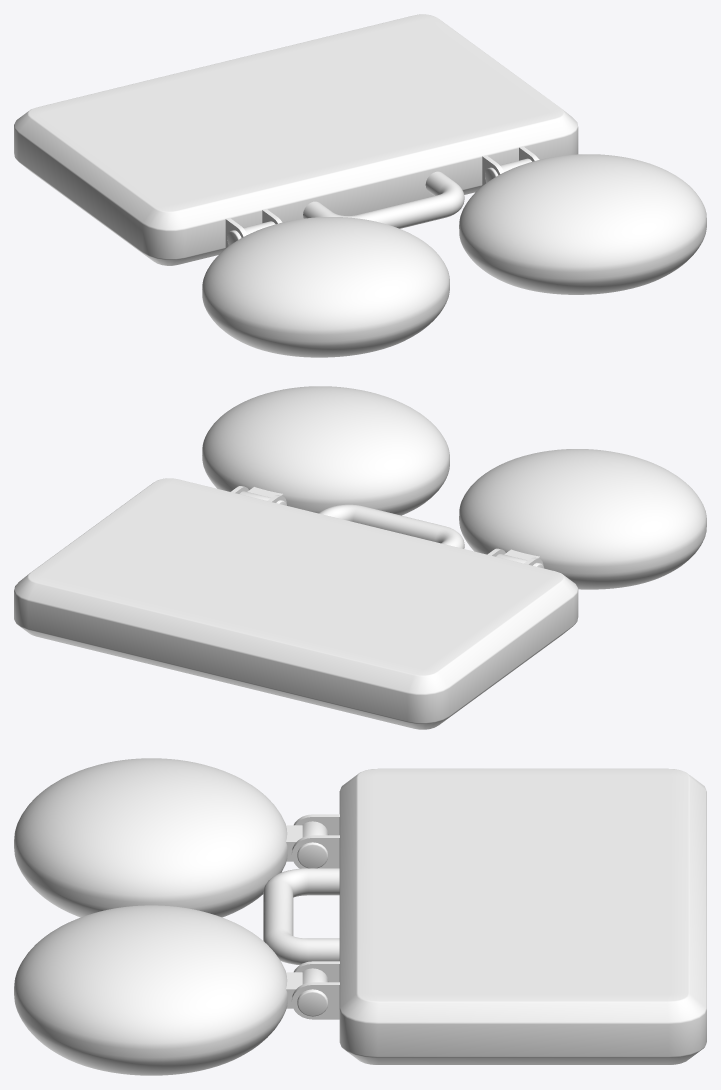
File: 应急灯.fbx
3 renders of one model, top to bottom at view 1: azimuth 30°, elevation 25°; view 2: azimuth 150°, elevation 25°; view 3: azimuth 270°, elevation 25°, orthographic. The views are drawn at different scales.
Visible parts, largest first — view 1: pasted__polySurface96; view 2: pasted__polySurface96; view 3: pasted__polySurface96.
Boxes of the visible parts, x1,y1,x2,y2 form: pasted__polySurface96: [14, 14, 706, 357]; pasted__polySurface96: [14, 386, 706, 729]; pasted__polySurface96: [14, 758, 706, 1075].
Bounding box in the file's own units: 427 × 81.86 × 460.
